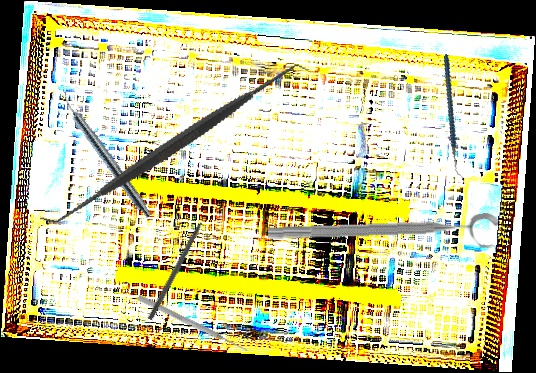Chopper: (416, 53, 492, 181)
Fixation Ring: (267, 212, 499, 259)
Handpiece: (56, 90, 156, 220)
Hook Surgical: (147, 207, 212, 322)
Pusher: (136, 293, 250, 355)
Spatula Surgical: (39, 5, 310, 283)
